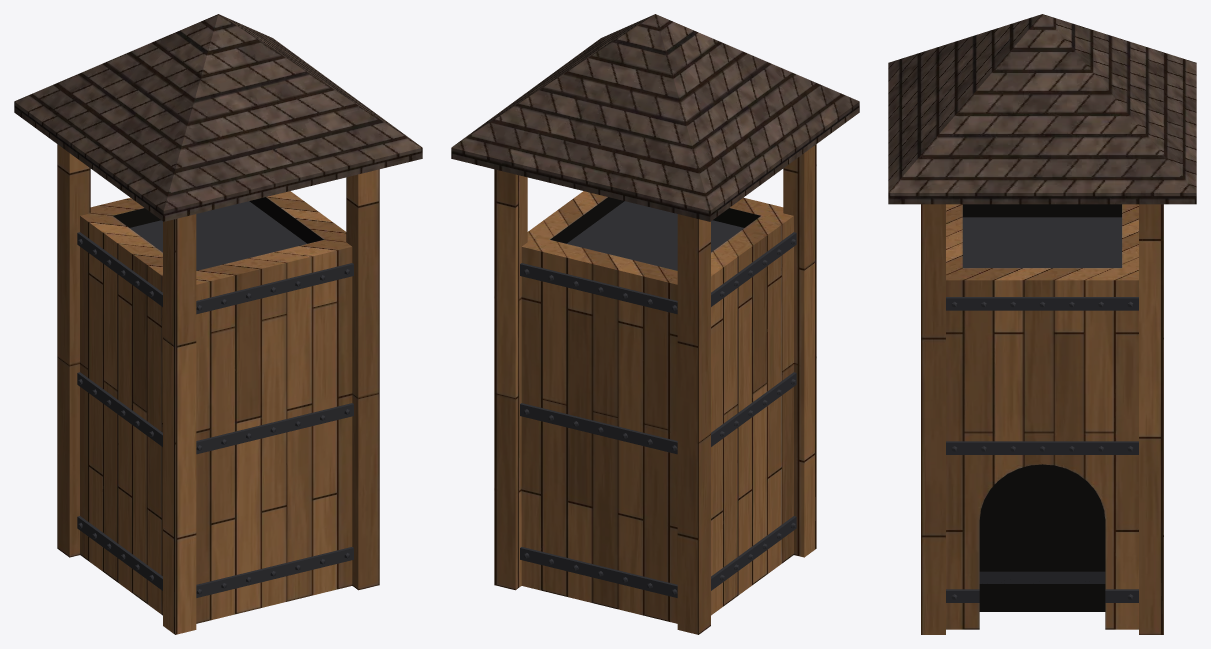
Rendered from watchtower.glb.
3 renders of one model, left to right at view 1: azimuth 30°, elevation 25°; view 2: azimuth 150°, elevation 25°; view 3: azimuth 270°, elevation 25°, orthographic. The views are drawn at different scales.
Parts seen in each view (by area): view 1: tower, roof, bands, rivets; view 2: tower, roof, bands, rivets; view 3: tower, roof, bands, rivets.
Part boxes in pixels (box(x1,y1,x2,y2)): tower: box(57, 144, 379, 634); roof: box(14, 14, 422, 221); bands: box(77, 201, 353, 597); rivets: box(78, 239, 349, 594); tower: box(494, 144, 816, 634); roof: box(451, 14, 859, 221); bands: box(520, 201, 796, 597); rivets: box(524, 239, 795, 594); tower: box(921, 204, 1163, 634); roof: box(888, 14, 1196, 204); bands: box(946, 217, 1138, 602); rivets: box(951, 301, 1133, 599).
Size of the model in its own units: 7.35 by 15 by 7.35.
Materials: 4 (2 with a texture image).
